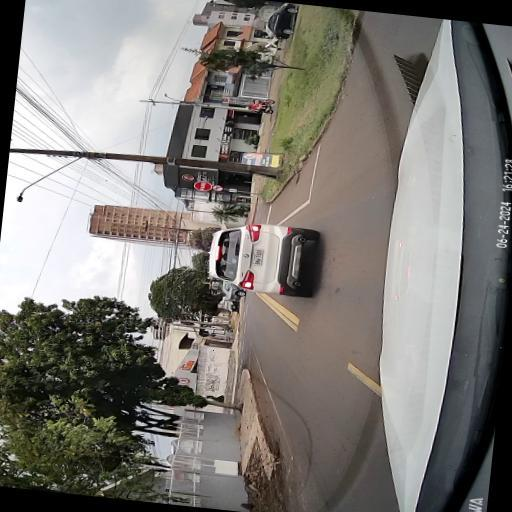R-1: (194, 179, 212, 191)
R-24a: (212, 184, 224, 191)
